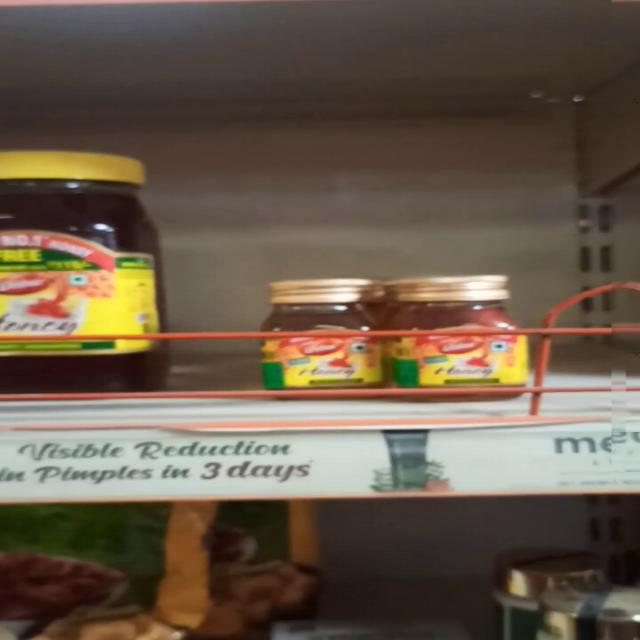Dabur Honey: (384, 272, 540, 397), (264, 278, 376, 392)
